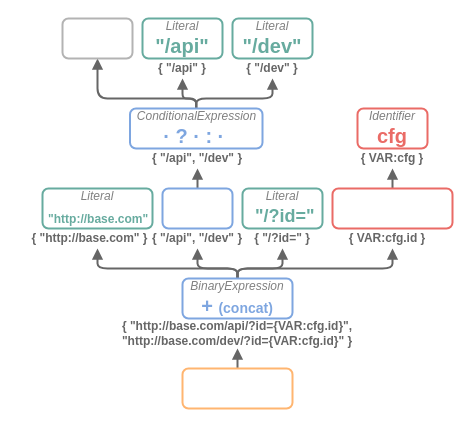
This 474x426 diagram has some shape labels left out. Here are the shapes that lost their labels. From the top down, the box of each, then its label:
(61, 17, 133, 59): Identifier env
(161, 187, 233, 229): Identifier p
(331, 187, 453, 229): MemberExpression cfg.id
(181, 367, 293, 409): CallExpression fetch( · )
